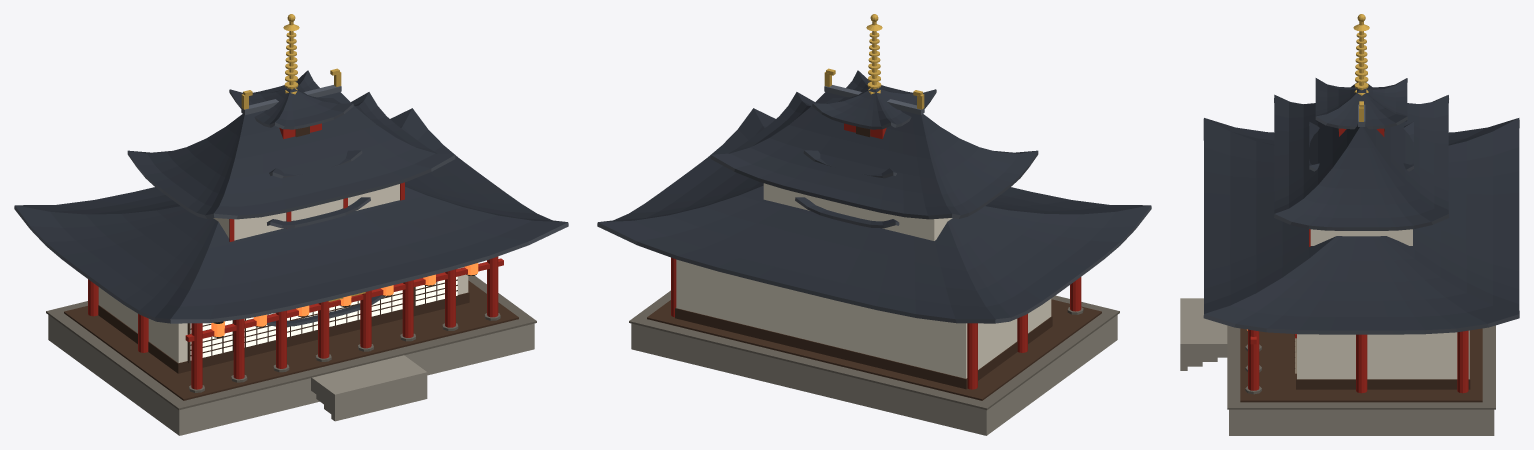
File: temple-kit.glb
3 views of the same model, side by side, from view 1: azimuth 30°, elevation 25°; view 2: azimuth 150°, elevation 25°; view 3: azimuth 270°, elevation 25° (orthographic).
Visible parts, largest first — view 1: HallMesh, PagodaMesh; view 2: HallMesh, PagodaMesh; view 3: HallMesh, PagodaMesh.
Part boxes in pixels (box(x1,y1,x2,y2)): HallMesh: box(14, 68, 568, 435); PagodaMesh: box(229, 14, 385, 326); HallMesh: box(597, 68, 1151, 435); PagodaMesh: box(795, 14, 936, 228); HallMesh: box(1180, 82, 1519, 435); PagodaMesh: box(1309, 14, 1413, 171).
Size of the model in its own units: 28 by 22.21 by 20.45.
